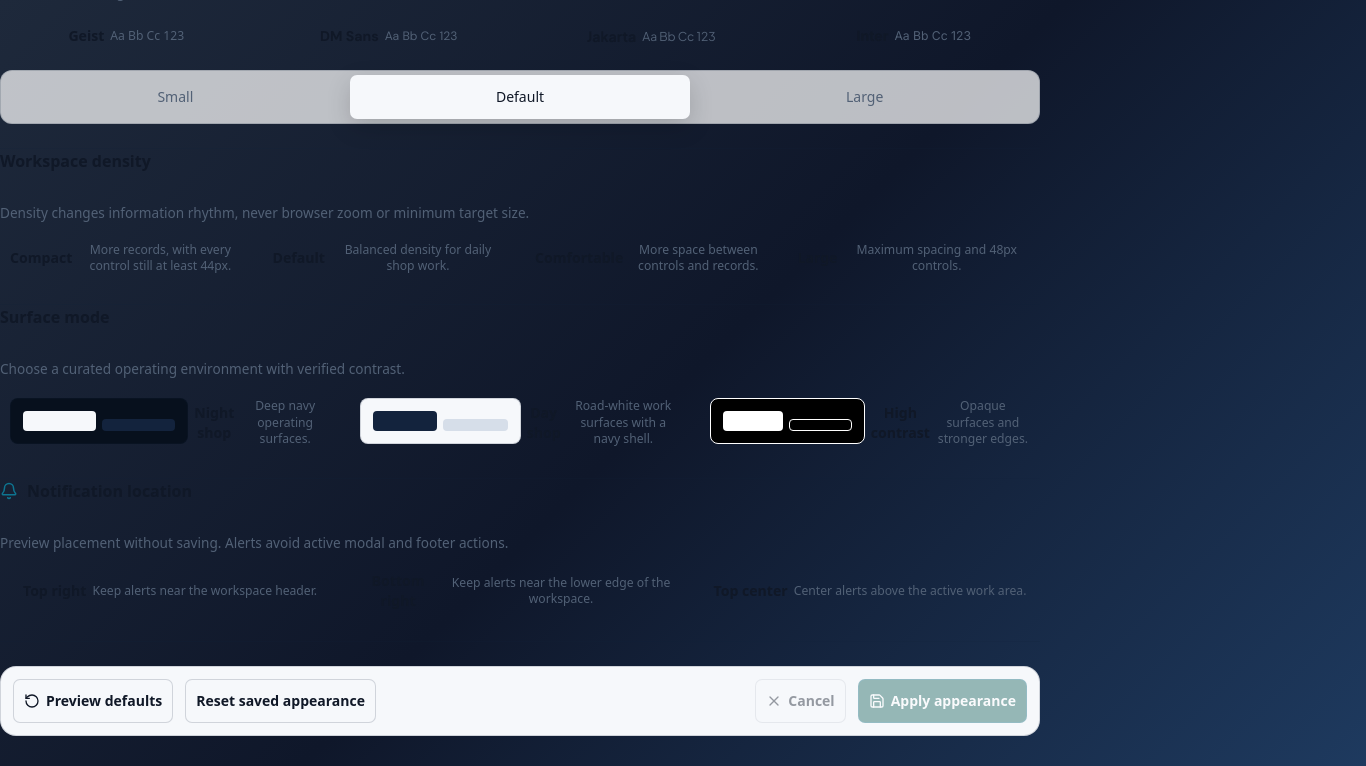
it: summarizes a draft and keeps editing as the safe navigation default
(page scrolled)
Click the button "Night shop Deep navy operating surfaces." at point(170, 423), box [0,392,340,454]
(page scrolled)
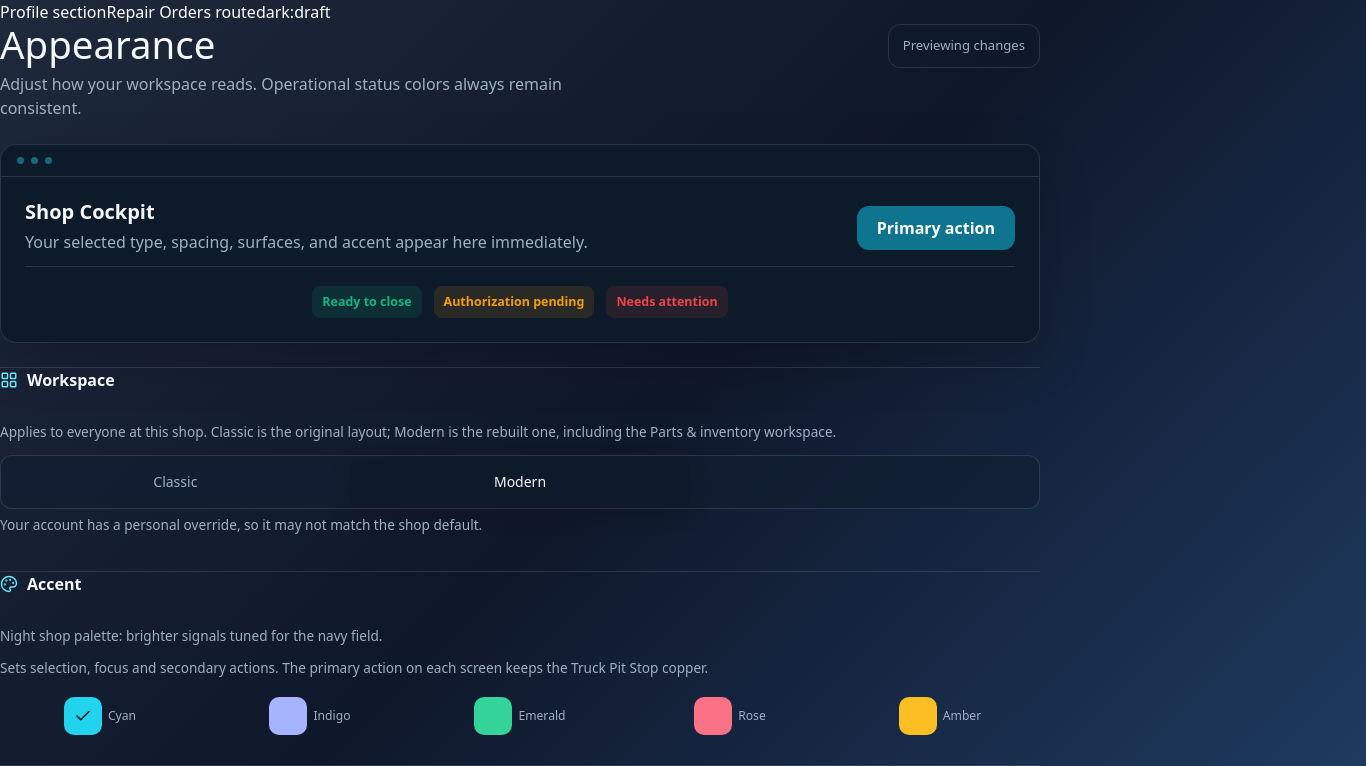
Click the link "Repair Orders route" at point(181, 12), box [106,1,256,23]
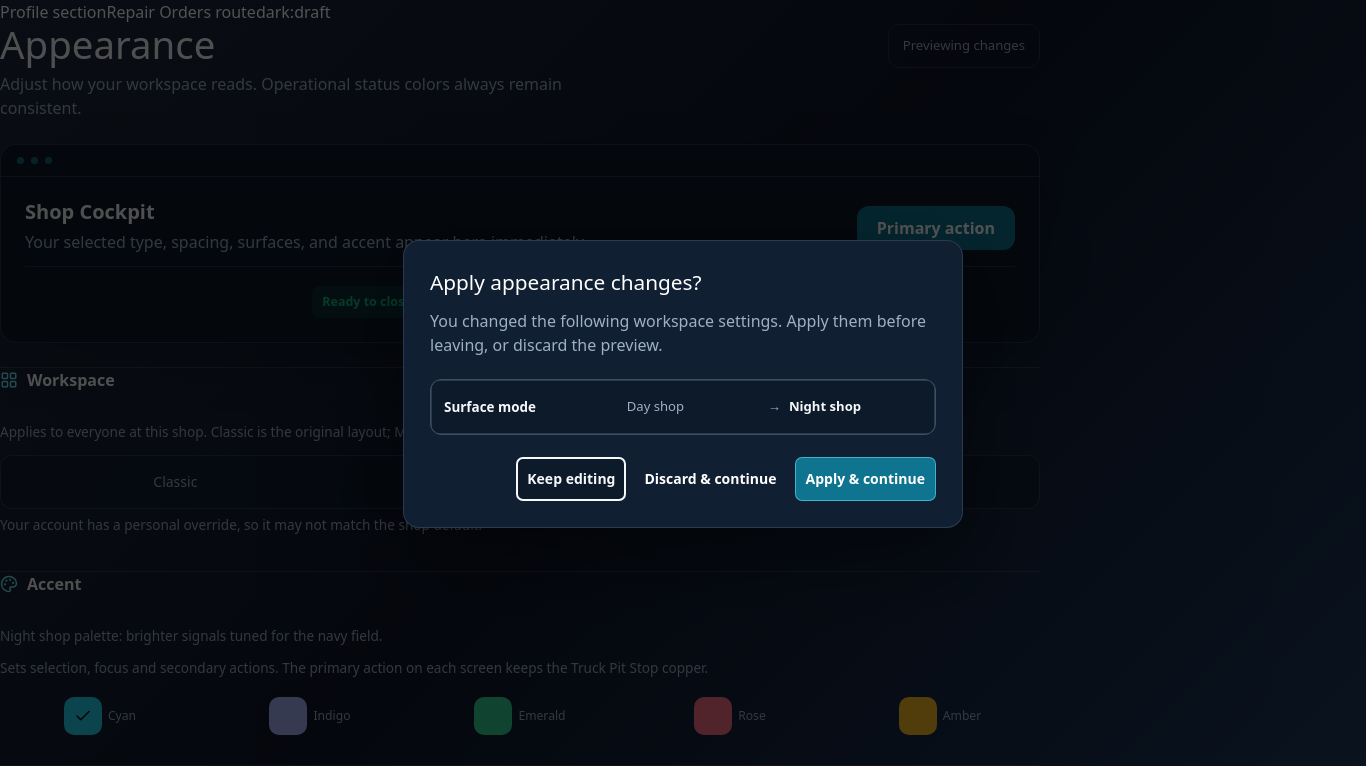
Expected: the dialog "Apply appearance changes?" is shown, [403,240,963,528]
Expected: the text "Surface mode" is shown, [444,398,536,416]
Expected: the text "Day shop" is shown, [627,397,684,415]
Click the button "Keep editing" at point(571, 479), box [516,457,626,501]
(page scrolled)
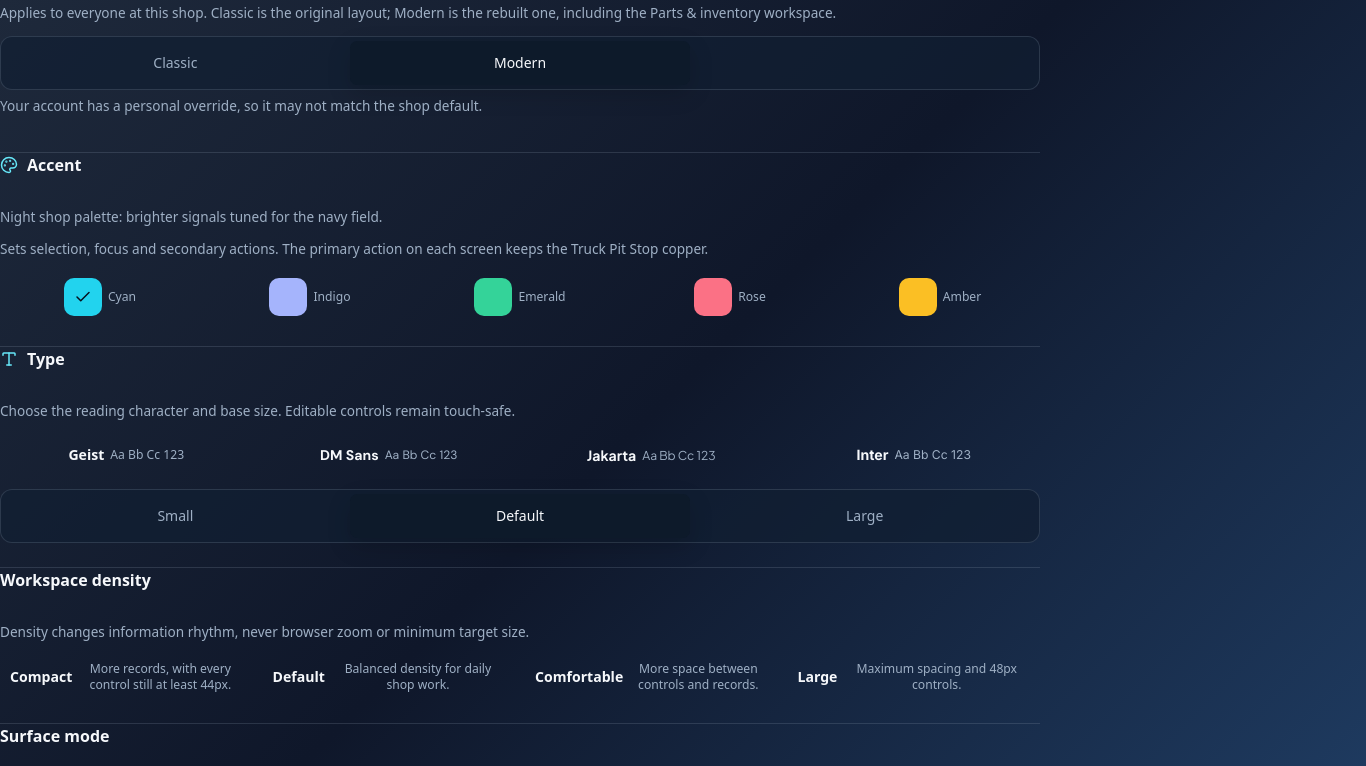
Expected: the dialog is gone
